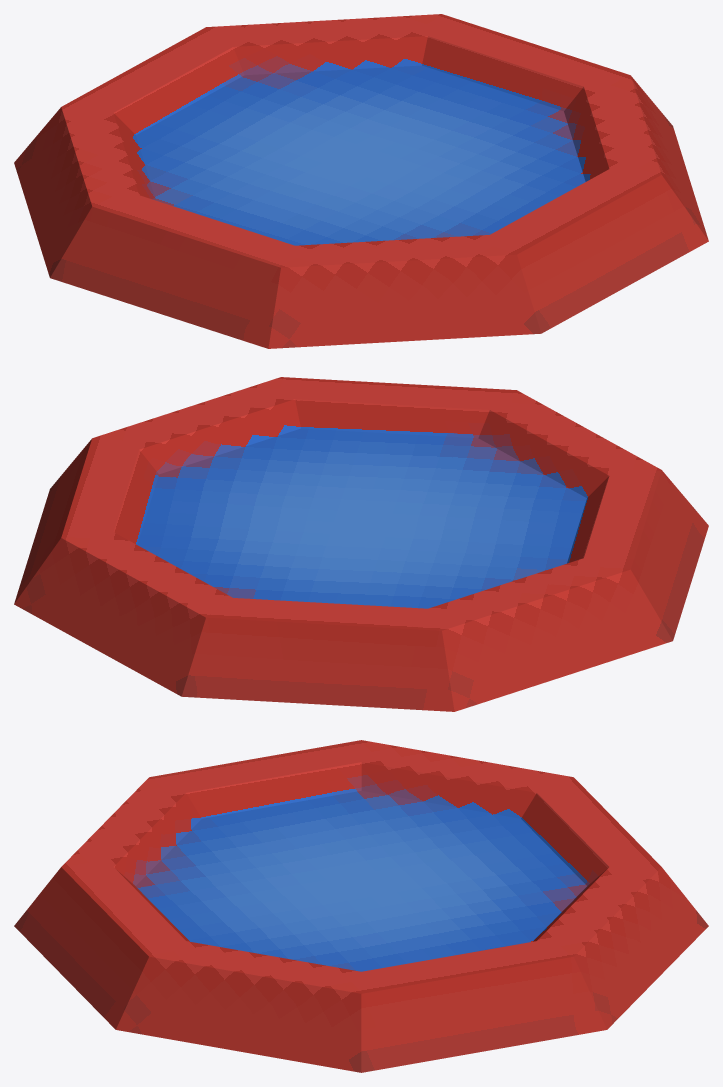
The model's file is BlockDogBowl.gltf.
3 renders of one model, top to bottom at view 1: azimuth 30°, elevation 25°; view 2: azimuth 150°, elevation 25°; view 3: azimuth 270°, elevation 25°, orthographic. The views are drawn at different scales.
Parts seen in each view (by area): view 1: DogBowl; view 2: DogBowl; view 3: DogBowl.
Part boxes in pixels (x1,y1,x2,y2): DogBowl: (14, 14, 708, 348); DogBowl: (14, 377, 708, 711); DogBowl: (14, 740, 708, 1072).
Bounding box in the file's own units: 0.7993 × 0.075 × 0.7993.
Materials: 1 (1 with a texture image).
